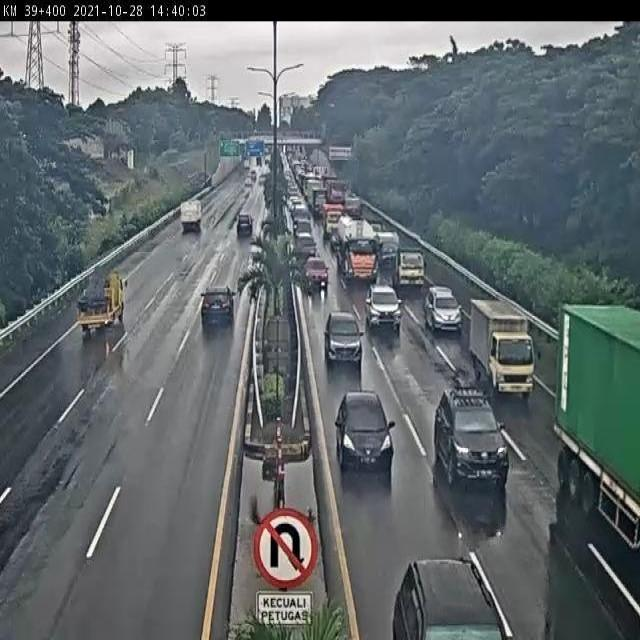Car: (389, 557, 513, 640), (433, 386, 512, 491), (334, 390, 396, 479), (324, 311, 364, 368), (364, 285, 404, 336), (424, 287, 462, 335), (200, 285, 236, 328), (304, 255, 330, 291), (180, 199, 202, 232), (294, 230, 317, 260), (236, 213, 253, 237)
Truck: (551, 302, 640, 550), (468, 300, 536, 400), (76, 270, 127, 337), (338, 208, 380, 284), (395, 250, 426, 291), (323, 202, 344, 236)
